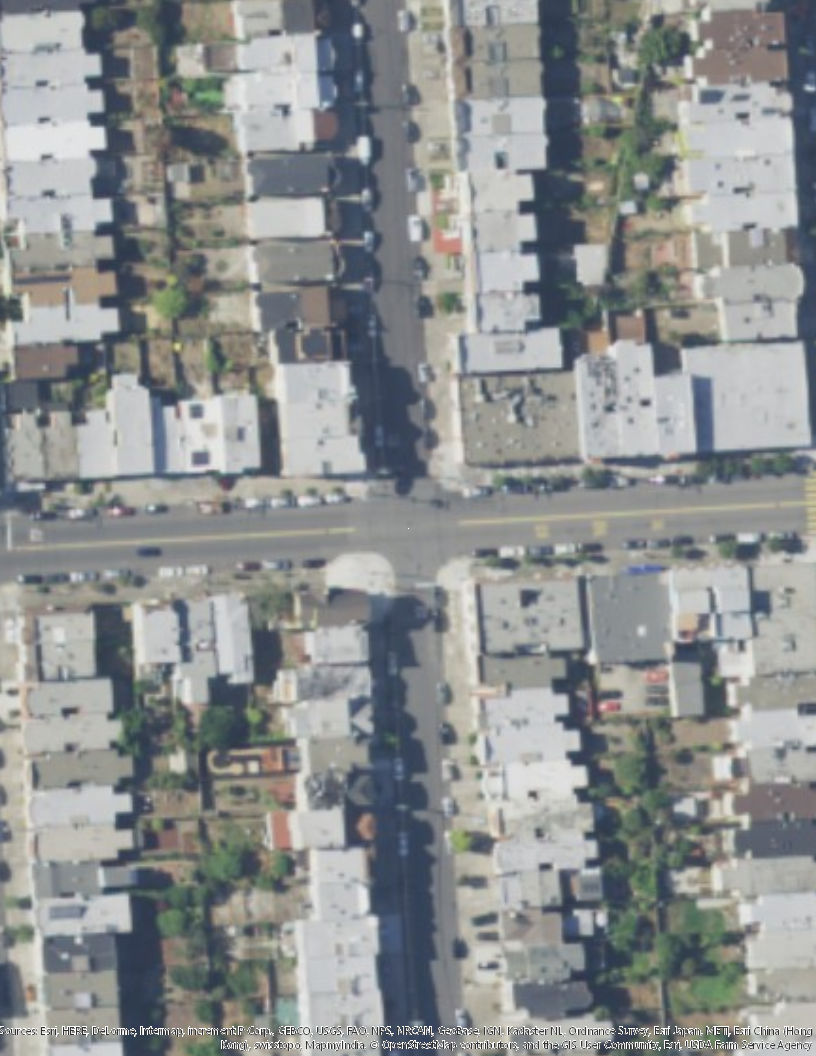zebracross: (808, 472, 816, 532)
